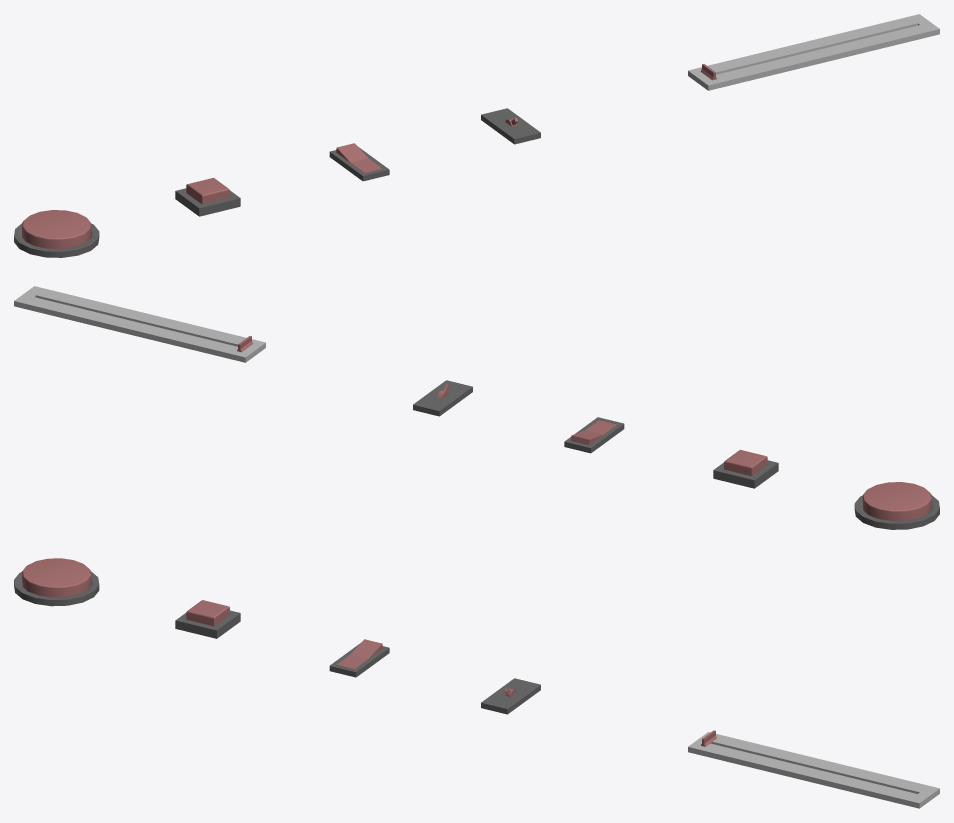
File: Test_Buttons.fbx
The picture shows the model from 3 angles, top to bottom: view 1: azimuth 30°, elevation 25°; view 2: azimuth 150°, elevation 25°; view 3: azimuth 330°, elevation 25°; orthographic projection.
Visible parts, largest first — view 1: Slider_Base, RoundButton, LightSwitch_Type2_Base, RoundButton_Base, SquareButton_Base, SquareButton, LightSwitch, LightSwitch_Base; view 2: Slider_Base, RoundButton, LightSwitch_Type2_Base, RoundButton_Base, SquareButton_Base, SquareButton, LightSwitch_Base, LightSwitch; view 3: Slider_Base, RoundButton, LightSwitch_Type2_Base, RoundButton_Base, SquareButton_Base, SquareButton, LightSwitch, LightSwitch_Base.
Part boxes in pixels (x1,y1,x2,y2): Slider_Base: (688, 14, 939, 90); RoundButton: (22, 210, 91, 248); LightSwitch_Type2_Base: (481, 108, 540, 144); RoundButton_Base: (14, 223, 99, 257); SquareButton_Base: (175, 188, 240, 216); SquareButton: (186, 178, 229, 204); LightSwitch: (336, 143, 382, 173); LightSwitch_Base: (329, 147, 389, 181); Slider_Base: (14, 286, 265, 362); RoundButton: (862, 482, 931, 520); LightSwitch_Type2_Base: (413, 380, 472, 416); RoundButton_Base: (854, 495, 939, 529); SquareButton_Base: (713, 460, 778, 488); SquareButton: (724, 450, 767, 476); LightSwitch_Base: (564, 417, 624, 453); LightSwitch: (571, 420, 617, 445); Slider_Base: (688, 732, 939, 808); RoundButton: (22, 558, 91, 597); LightSwitch_Type2_Base: (481, 678, 540, 714); RoundButton_Base: (14, 571, 99, 606); SquareButton_Base: (175, 610, 240, 638); SquareButton: (186, 600, 229, 626); LightSwitch: (336, 639, 382, 669); LightSwitch_Base: (329, 643, 389, 677).
Bounding box in the file's own units: 301 × 6.14 × 24.62.
